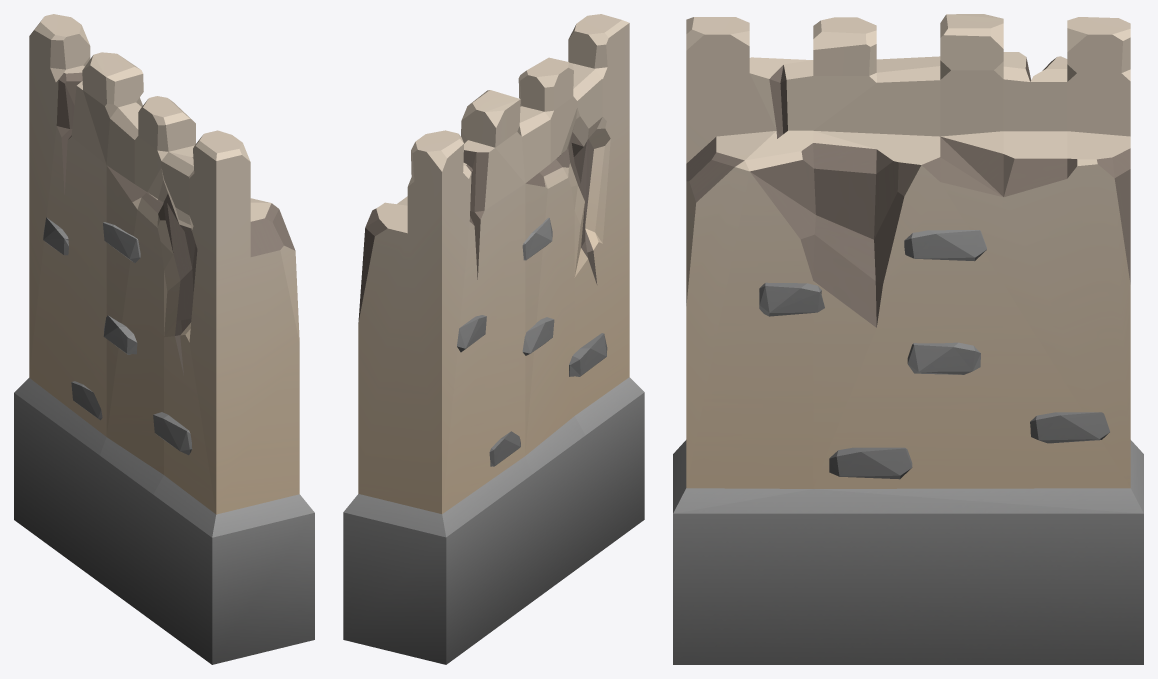
File: DamagedFortWall1.fbx
The picture shows the model from 3 angles, left to right: view 1: azimuth 30°, elevation 25°; view 2: azimuth 150°, elevation 25°; view 3: azimuth 270°, elevation 25°; orthographic projection. The views are drawn at different scales.
Visible parts, largest first — view 1: DamagedFortWall1; view 2: DamagedFortWall1; view 3: DamagedFortWall1.
Boxes of the visible parts, x1=… form: DamagedFortWall1: x1=14, y1=14, x2=314, y2=664; DamagedFortWall1: x1=343, y1=14, x2=644, y2=664; DamagedFortWall1: x1=673, y1=14, x2=1143, y2=664.
Size of the model in its own units: 1.67 by 7.75 by 5.52.
